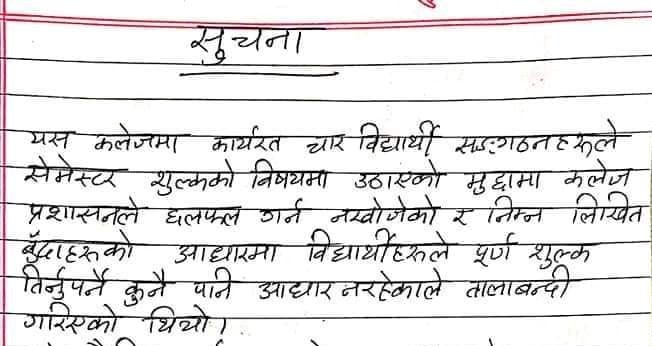text: (453, 119, 626, 157), (303, 227, 454, 264), (189, 23, 308, 68), (18, 225, 141, 261), (22, 192, 143, 228), (462, 264, 575, 301), (340, 265, 446, 303), (20, 153, 127, 190), (17, 300, 122, 336), (18, 261, 108, 300), (326, 195, 441, 225), (148, 158, 238, 196), (356, 119, 443, 156), (352, 158, 445, 191), (93, 122, 186, 154), (568, 190, 649, 226), (246, 157, 330, 191), (174, 240, 281, 264), (461, 168, 547, 196), (210, 124, 284, 155), (163, 203, 246, 230), (560, 159, 634, 188), (256, 277, 334, 304), (120, 267, 169, 309), (149, 304, 214, 335), (526, 239, 591, 268), (486, 196, 550, 225), (190, 265, 237, 304), (469, 231, 518, 268), (255, 197, 308, 227), (28, 124, 72, 151), (304, 132, 349, 156), (449, 207, 474, 229)
